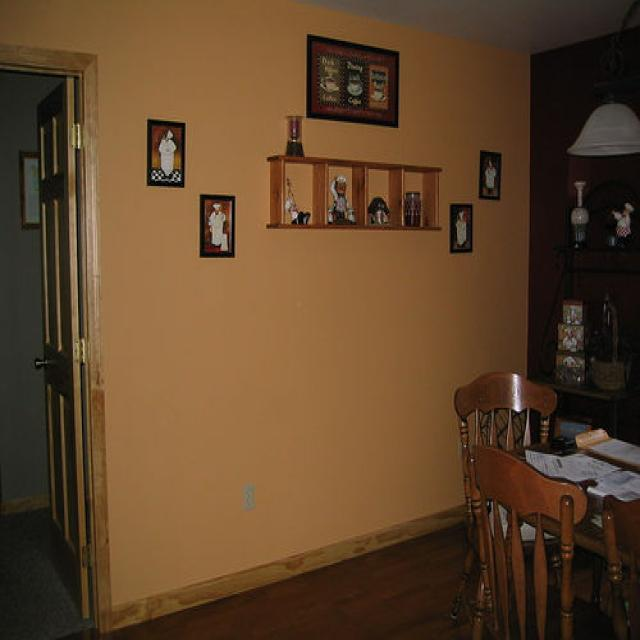chair: (452, 370, 575, 636), (465, 443, 589, 639), (600, 493, 640, 640)
diningtable: (480, 428, 640, 568)
